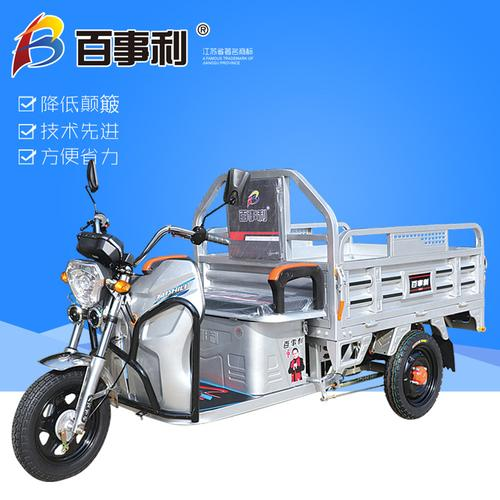empty: (8, 158, 490, 482)
